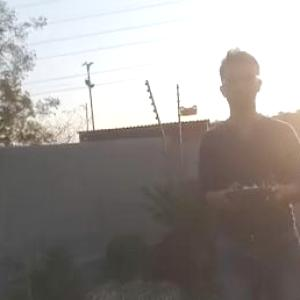follow: (189, 31, 300, 299)
